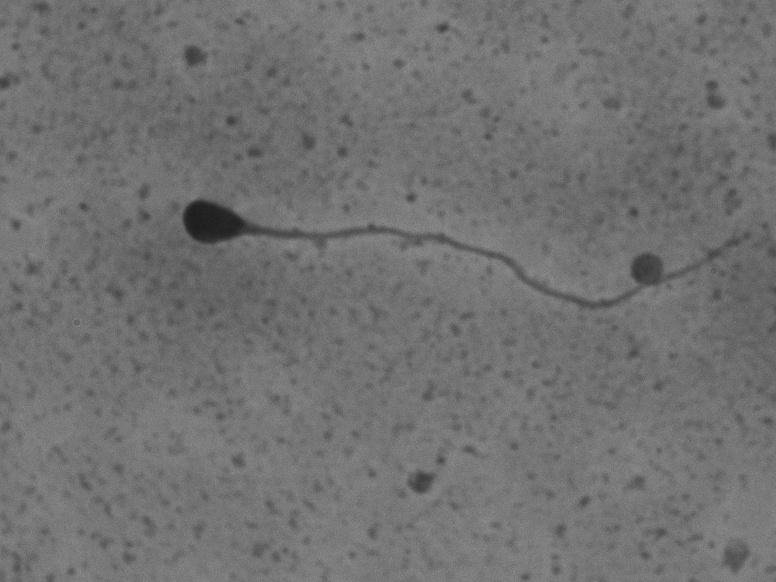Abnormal: (166, 146, 754, 361)
